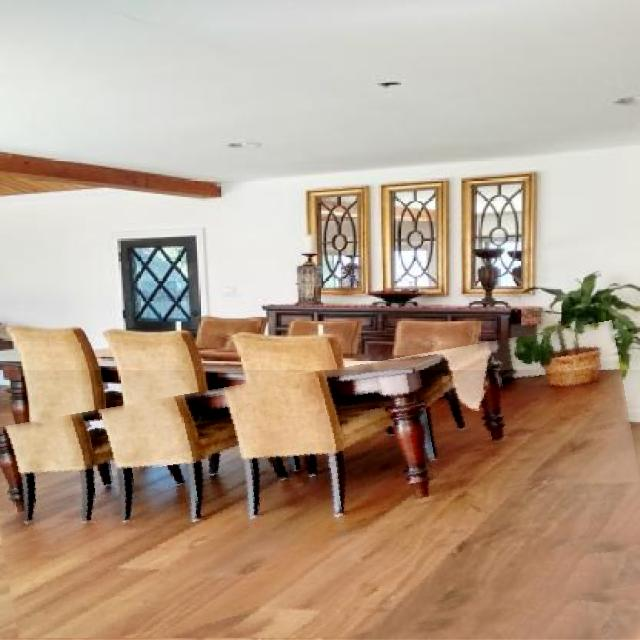floor: (0, 371, 640, 639)
